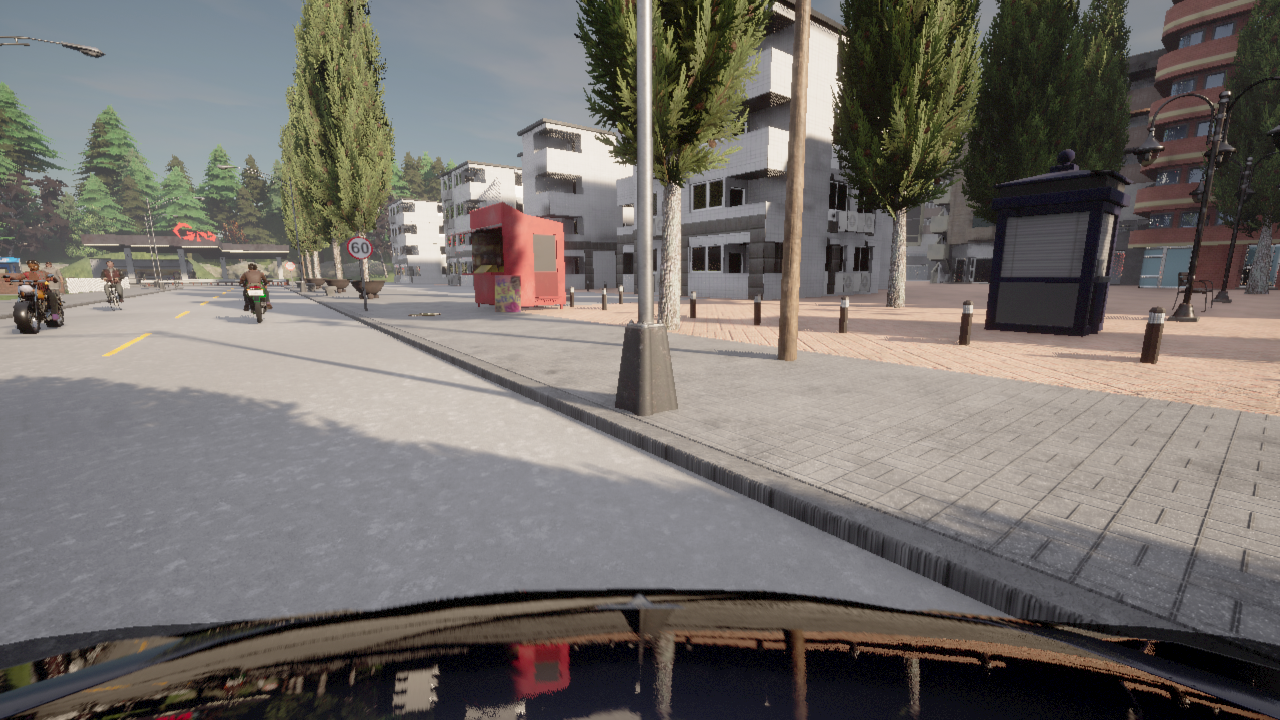cyclist: (0, 588, 1279, 719), (3, 274, 65, 333), (235, 280, 272, 323), (107, 280, 121, 311), (166, 274, 189, 279), (240, 275, 268, 277)
pedestrian: (41, 262, 62, 294)
